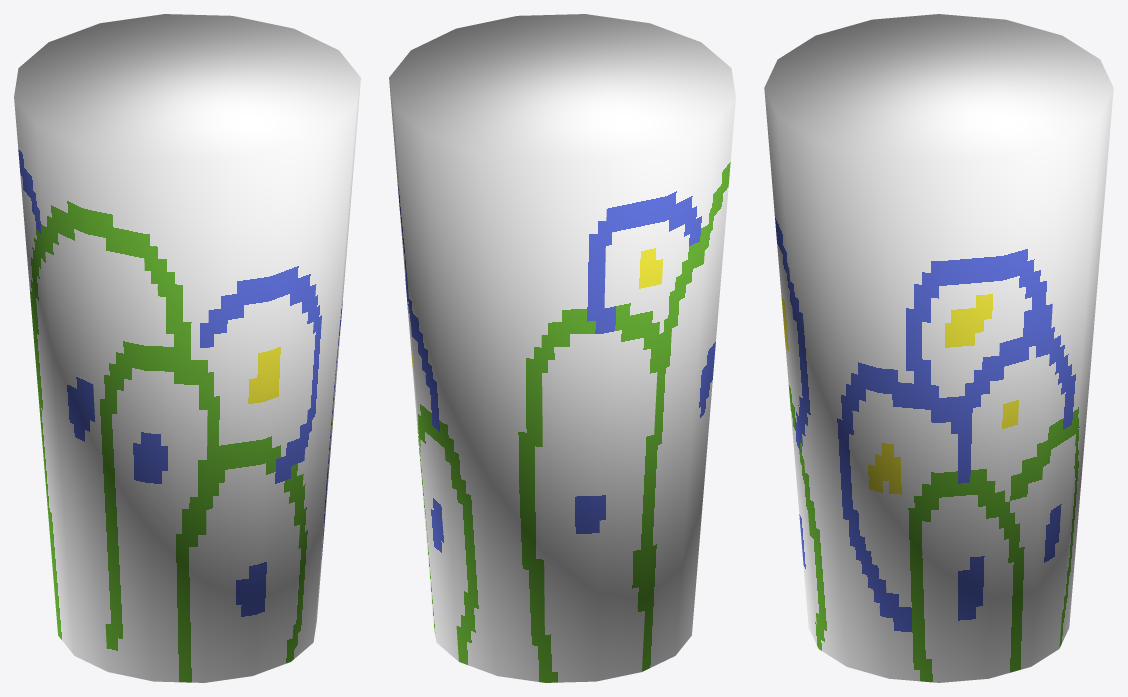
The model's file is papercup.gltf.
3 renders of one model, left to right at view 1: azimuth 30°, elevation 25°; view 2: azimuth 150°, elevation 25°; view 3: azimuth 270°, elevation 25°, orthographic.
Visible parts, largest first — view 1: Cylinder; view 2: Cylinder; view 3: Cylinder.
Part boxes in pixels (x1,y1,x2,y2): Cylinder: (14, 14, 360, 682); Cylinder: (389, 14, 735, 682); Cylinder: (764, 14, 1113, 682).
Size of the model in its own units: 0.0695 by 0.1186 by 0.0695.
1 material, 1 textured.
